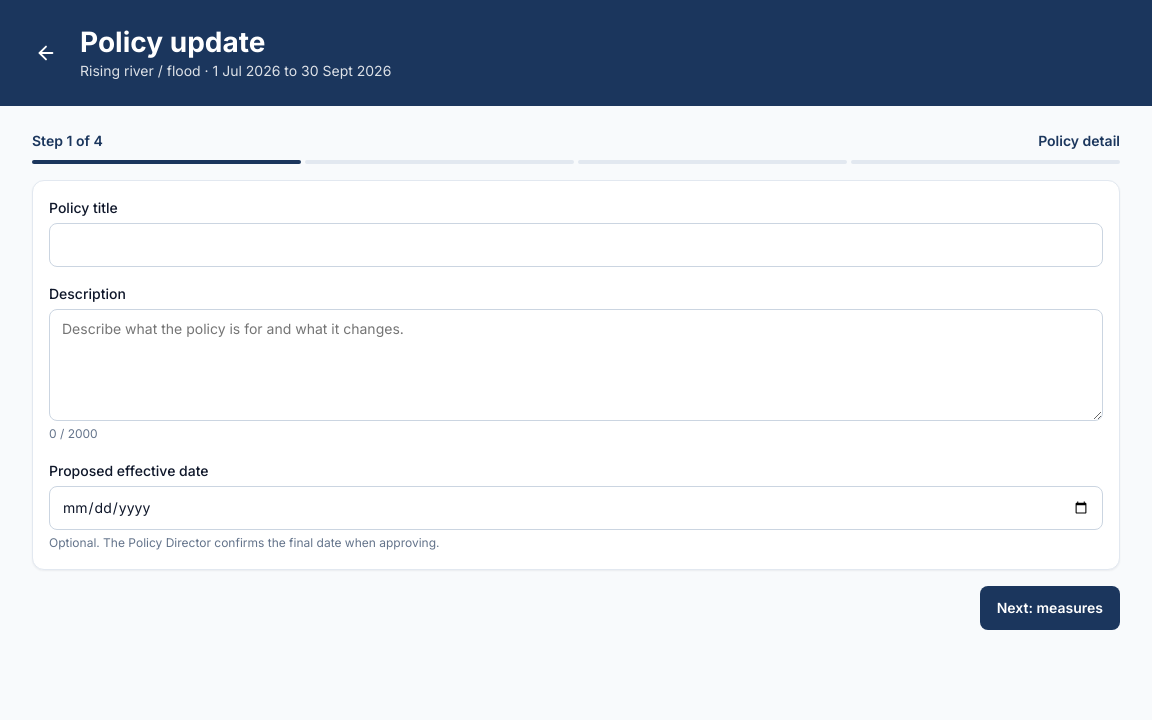
Policy wizard (steps 6–9) › should show a true step counter and validate step 1 before saving
Check: the text "Step 1 of 4" is shown, box [32,130,103,152]
Click the button "Next: measures" at (1050, 608), box [980,586,1120,630]
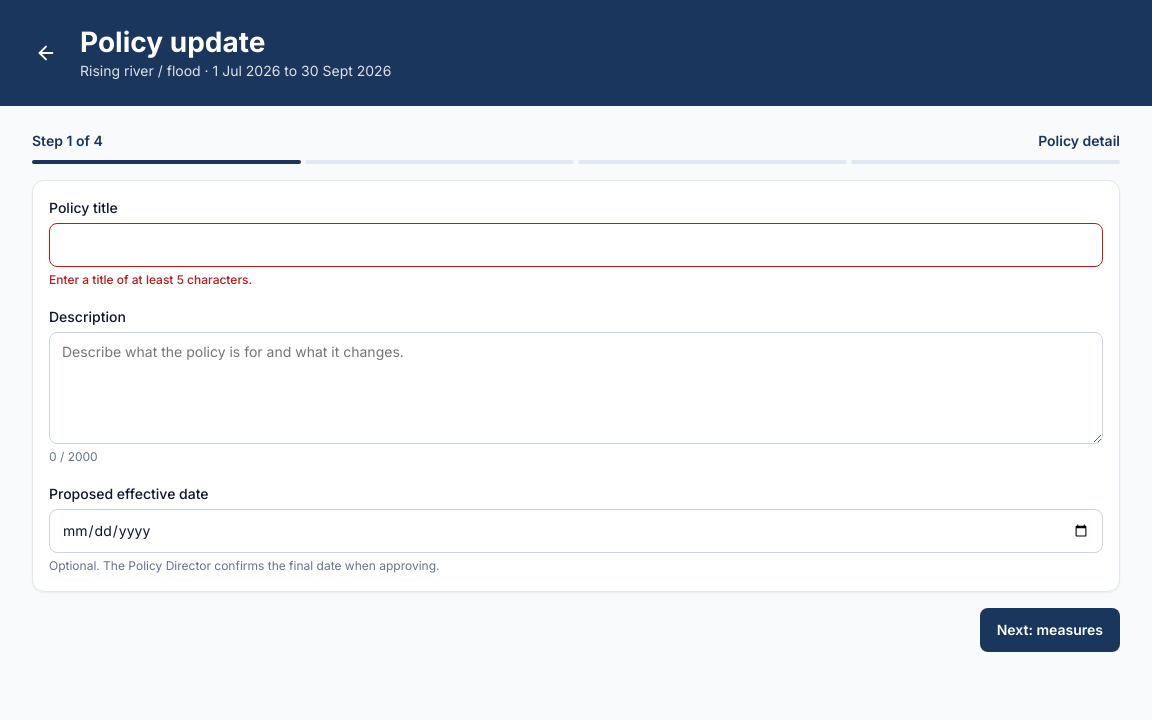
Check: the text "Step 1 of 4" is shown, box [32,130,103,152]
Check: the text "Enter a title of at least 5 characters." is shown, box [49,272,252,287]
